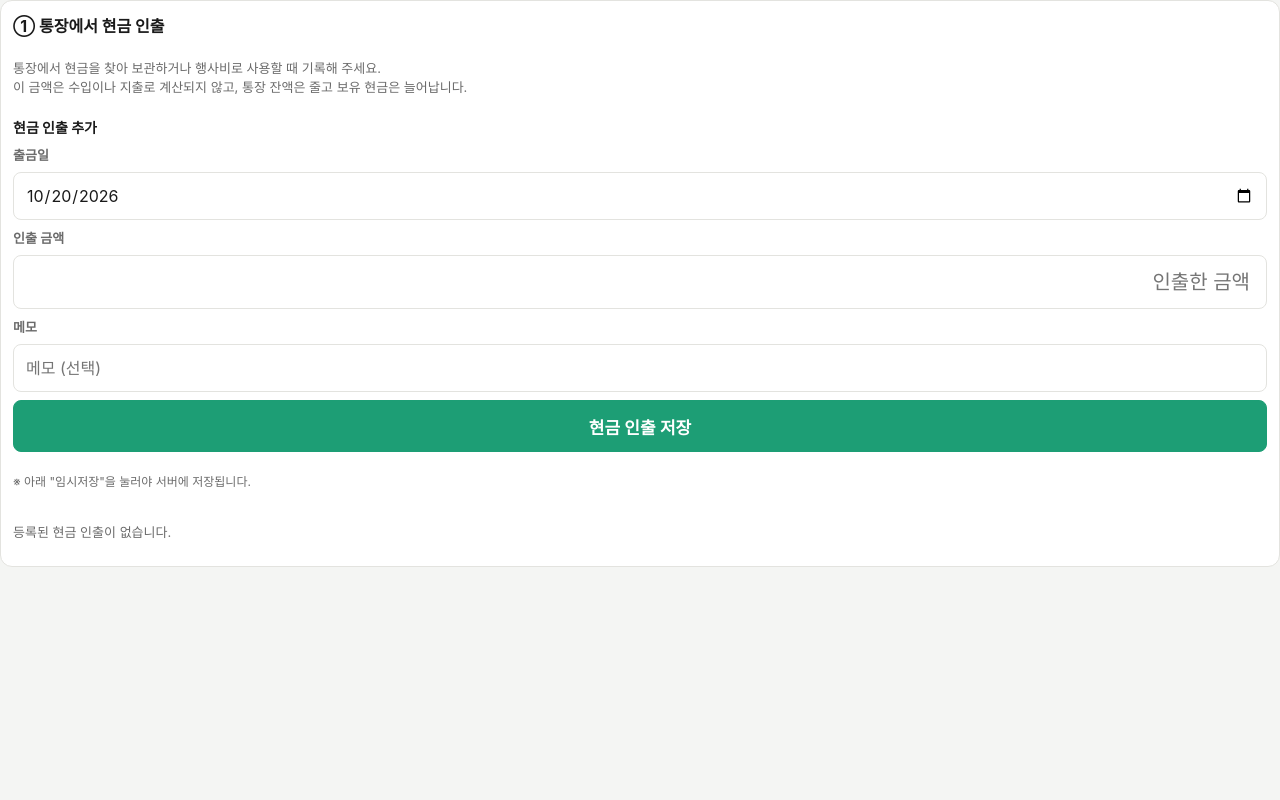
Test: BankCashWithdrawalForm 화면 › 금액 없이 저장하면 안내가 나오고 저장되지 않는다
Click the button "현금 인출 저장" at (640, 426), box [13,400,1267,452]
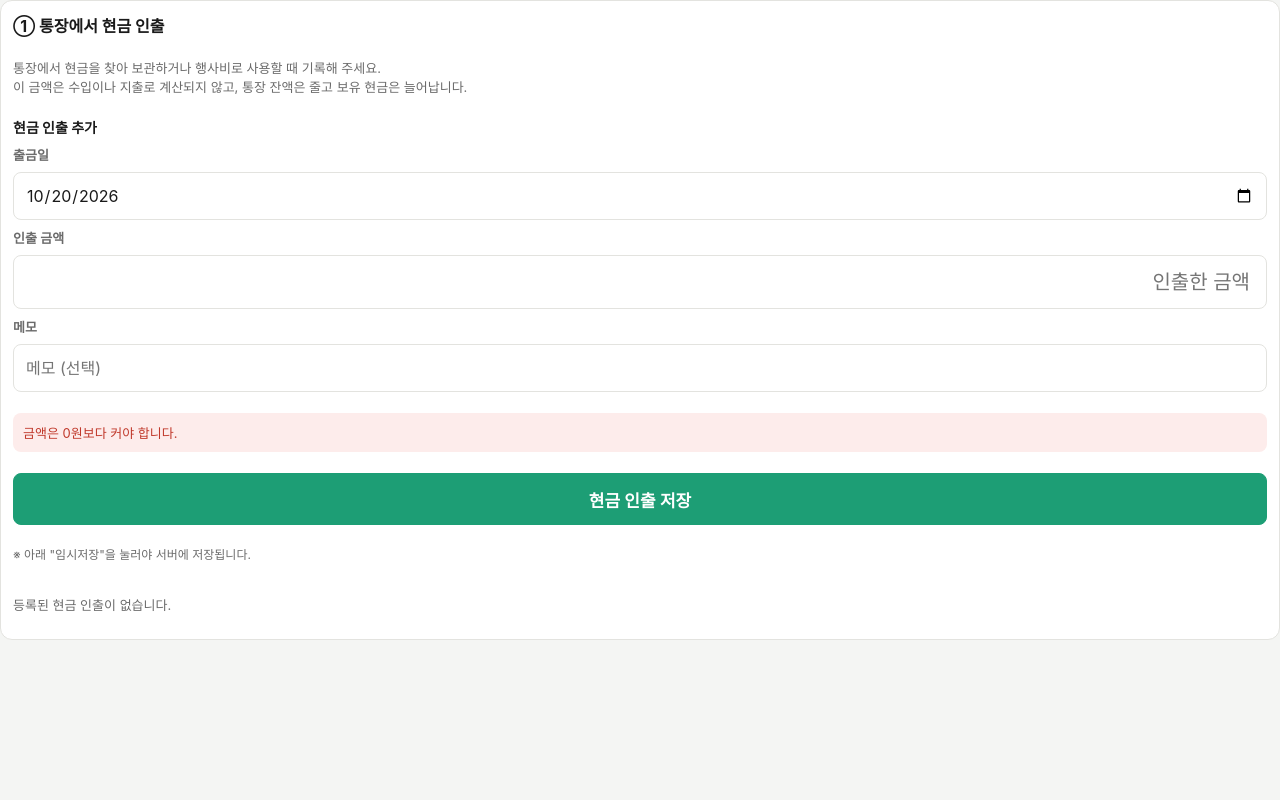
Now the text "금액은 0원보다 커야 합니다." is shown, box [13,413,1267,452]
